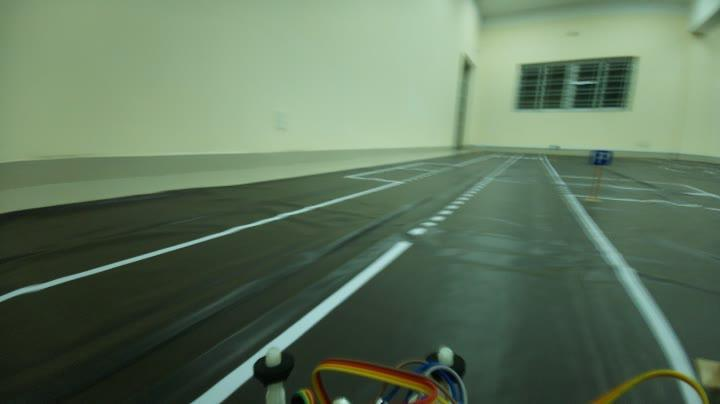parking: (588, 147, 613, 166)
